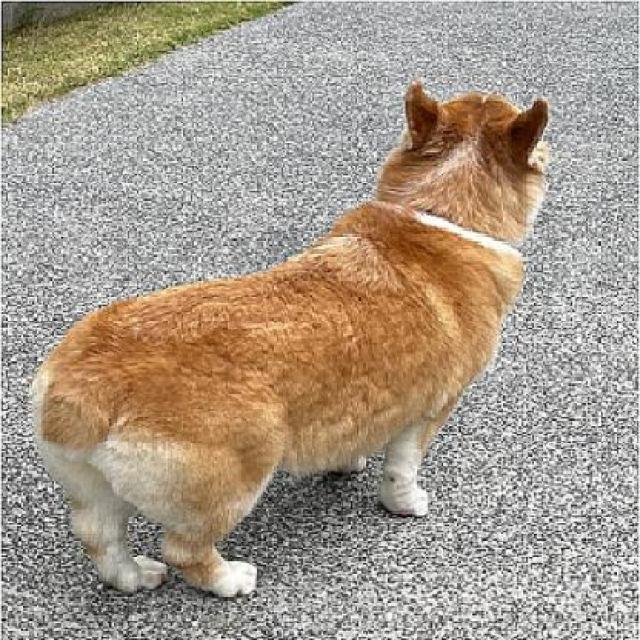Dog: (29, 78, 551, 594)
